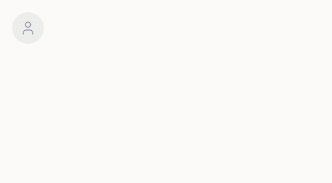
Test case: the user menu › carries the bug-report entry only where a handler is supplied
Later steps or results of the test are not shown.
Press the mouse on the button named "User menu" at (28, 28), box [12,12,44,44]
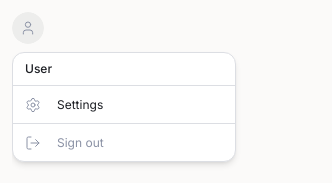
Check: the menu item "Settings" is shown, box [25,96,103,112]
